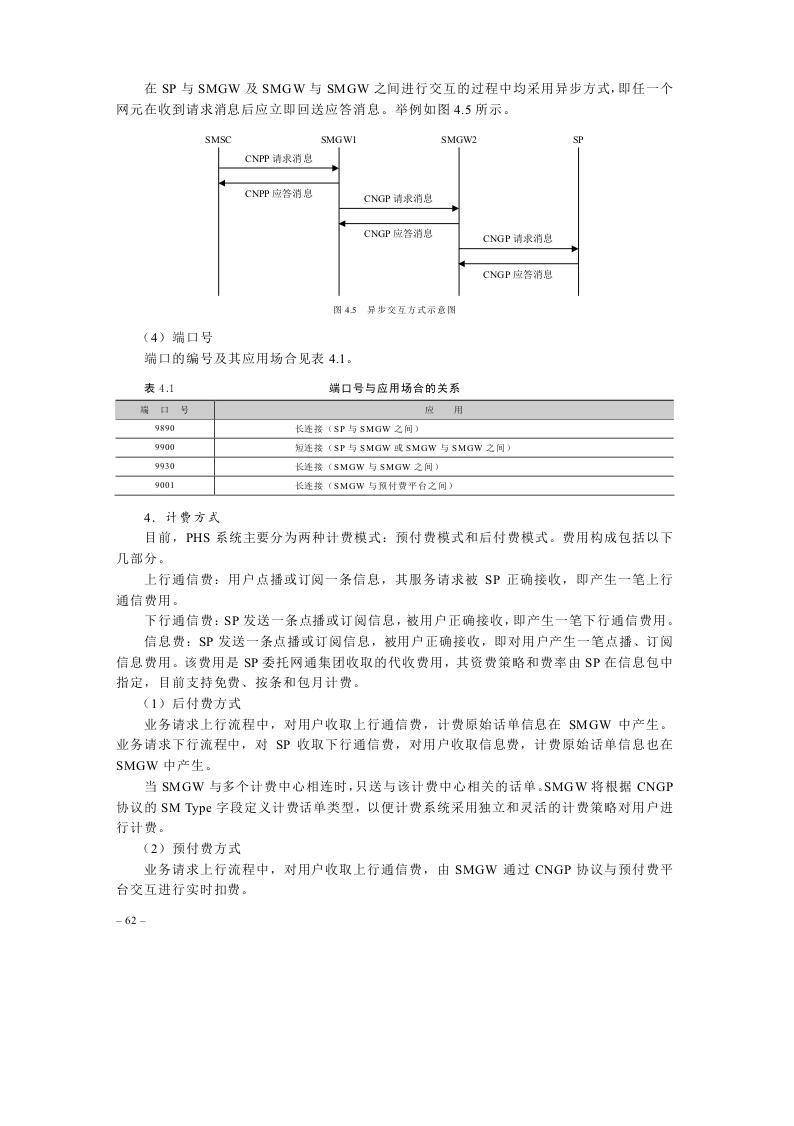table: (114, 399, 674, 495)
